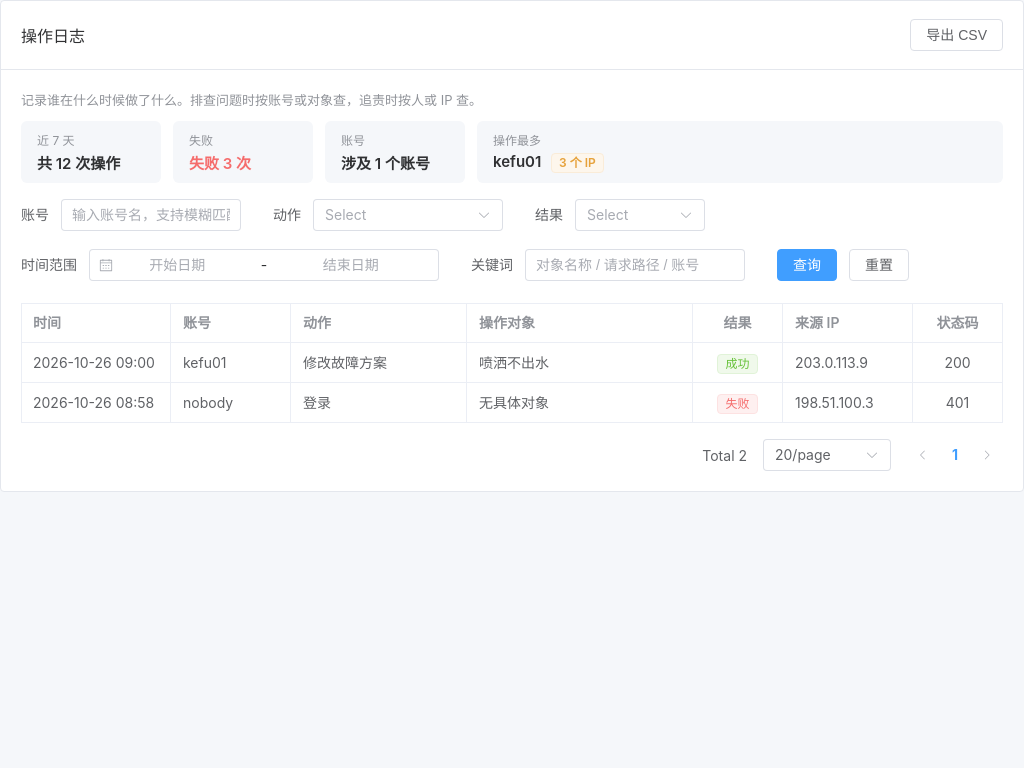
Test: AuditLogList › 点击行拉详情并把变更字段翻译成人话
Step 1. Click the row "2026-10-26 09:00 kefu01 修改故障方案 喷洒不出水 成功 203.0.113.9 200" → [512, 363], box [21,343,1003,383]
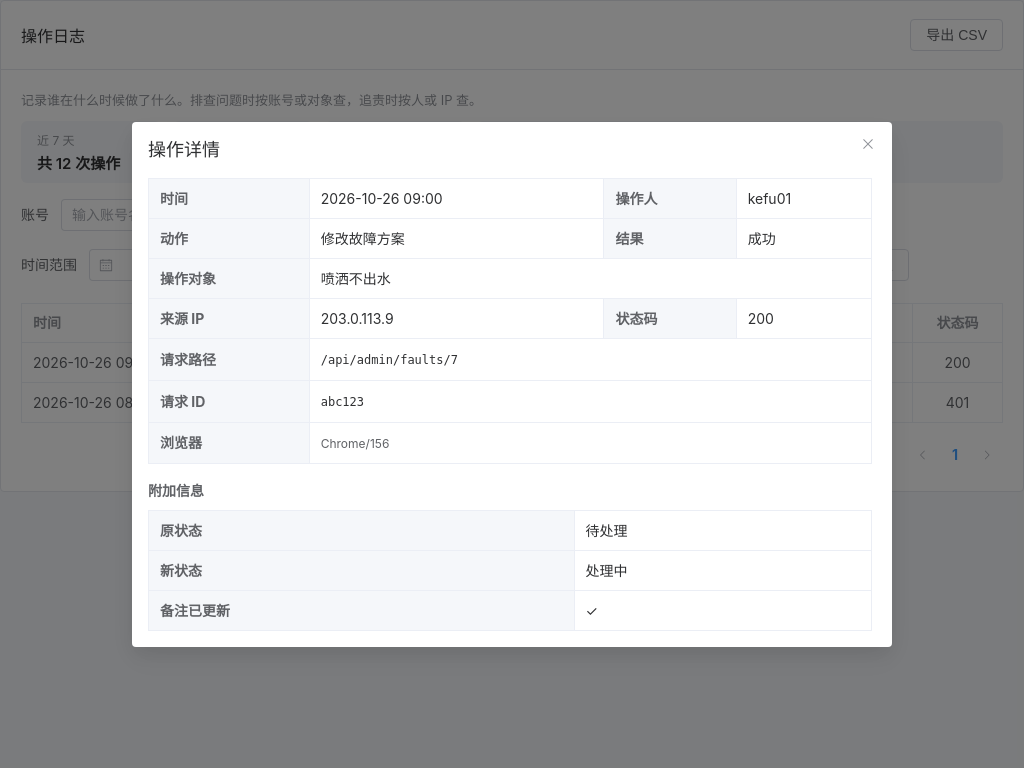
Check: the cell "原状态" is shown, box [148,510,574,550]
Check: the cell "新状态" is shown, box [148,550,574,590]
